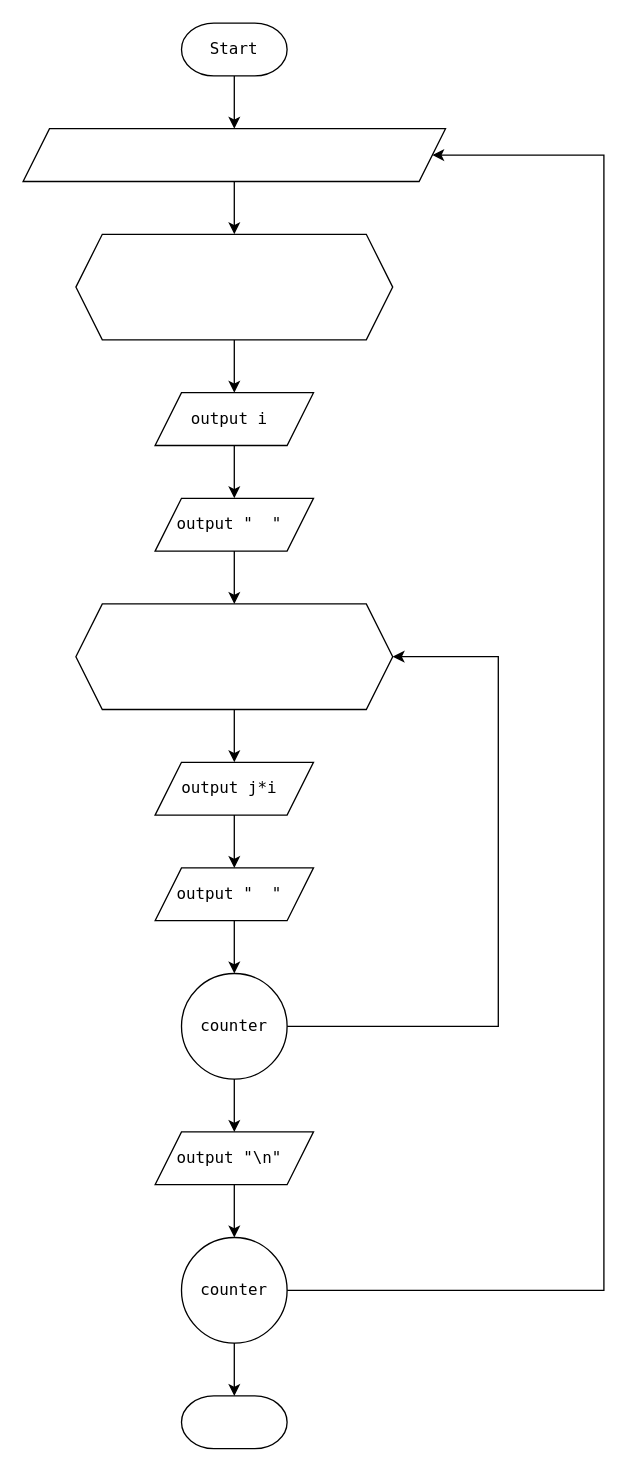
This 638x1472 diagram has some shape labels left out. The centre of each missing label's shape, as x and y in pixels:
End: [233,1422]
for (i = 1; i <= 10; i++): [234,286]
for (j = 1; j <= 10; j++): [234,656]
output "0 1 2 3 4 5 6 7 8 9 10\n": [234,154]
